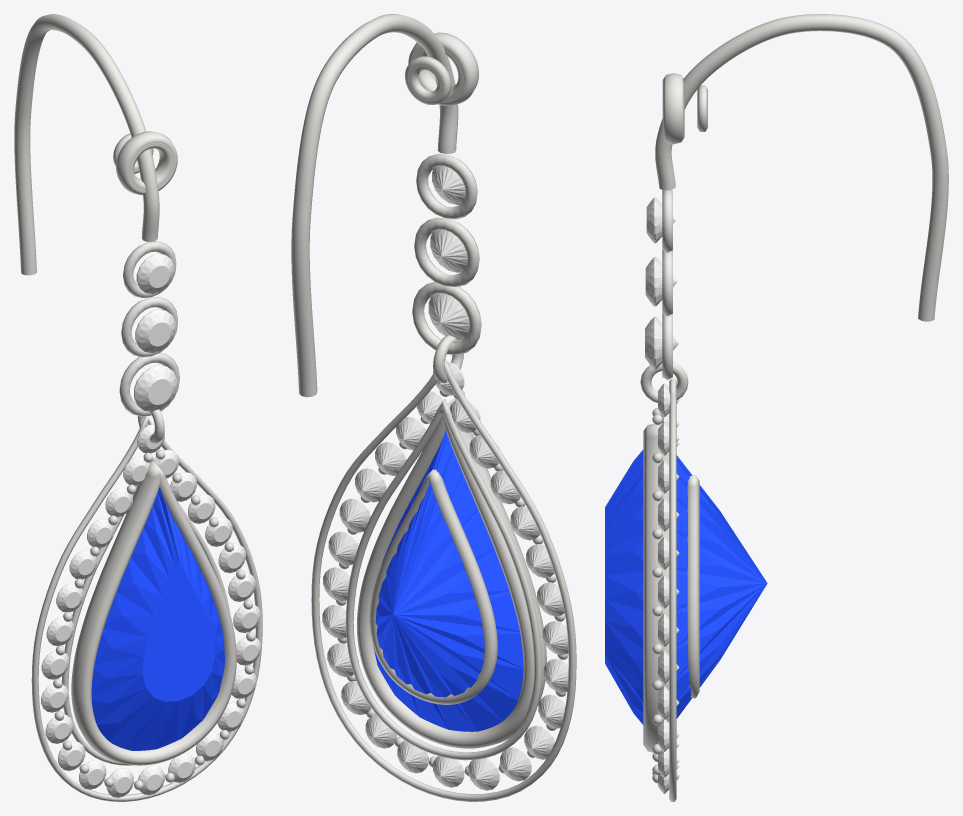
Rendered from drop-sapphire-halo.glb.
3 renders of one model, left to right at view 1: azimuth 30°, elevation 25°; view 2: azimuth 150°, elevation 25°; view 3: azimuth 270°, elevation 25°, orthographic. The views are drawn at different scales.
Parts seen in each view (by area): view 1: drop-sapphire-halo_whiteGold, drop-sapphire-halo_sapphire, drop-sapphire-halo_diamond; view 2: drop-sapphire-halo_whiteGold, drop-sapphire-halo_sapphire, drop-sapphire-halo_diamond; view 3: drop-sapphire-halo_whiteGold, drop-sapphire-halo_sapphire, drop-sapphire-halo_diamond.
Part boxes in pixels (x1,y1,x2,y2): drop-sapphire-halo_whiteGold: (14, 14, 262, 801); drop-sapphire-halo_sapphire: (91, 487, 224, 750); drop-sapphire-halo_diamond: (41, 253, 261, 797); drop-sapphire-halo_whiteGold: (291, 14, 576, 801); drop-sapphire-halo_sapphire: (373, 430, 523, 731); drop-sapphire-halo_diamond: (322, 166, 568, 790); drop-sapphire-halo_whiteGold: (640, 14, 948, 801); drop-sapphire-halo_sapphire: (605, 450, 767, 724); drop-sapphire-halo_diamond: (645, 197, 679, 793).
Bounding box in the file's own units: 0.9202 × 2.77 × 1.12.
